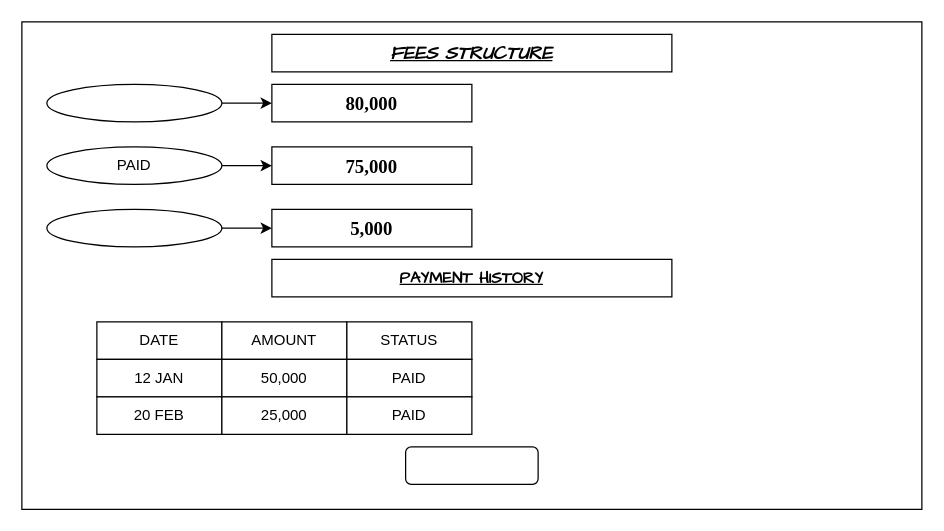
The diagram is 944 pixels wide and 531 high, and some of its shapes have lost their labels. The box of each missing label's shape, as (x1, y1, x2, y2) in pixels:
PAY NOW: (404, 446, 538, 484)
REM TO PAY: (46, 208, 222, 247)
TOTAL FEES: (46, 83, 222, 122)
